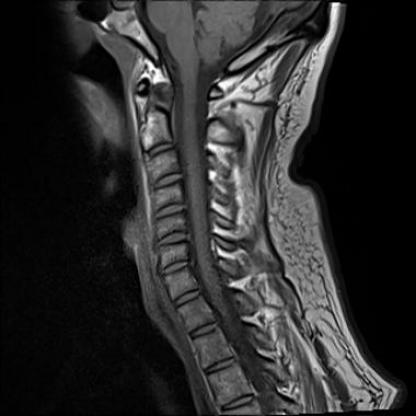Disc Herniationrotation: (149, 171, 187, 190), (152, 230, 191, 247), (149, 203, 190, 219), (157, 260, 192, 275)
Osteophytesrotation: (149, 171, 187, 190), (152, 229, 191, 247), (149, 203, 190, 219), (157, 260, 192, 275)
